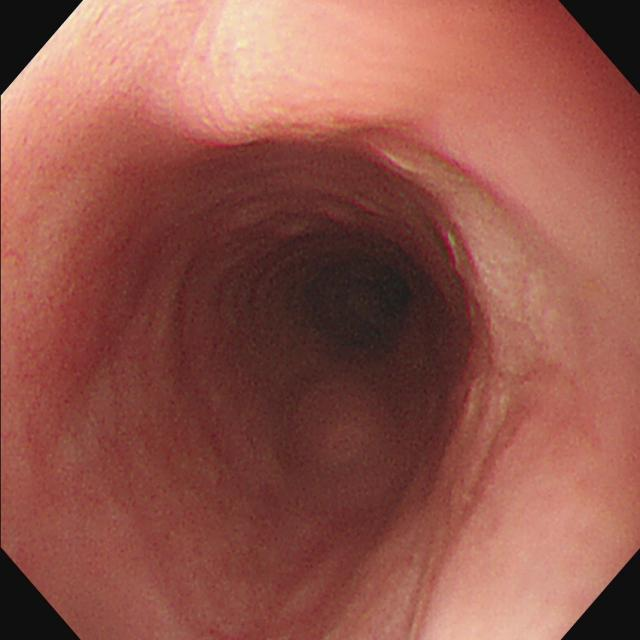E: (291, 237, 413, 368)
